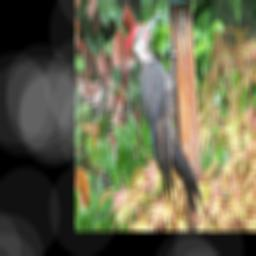Woodpecker: (124, 11, 204, 217)
